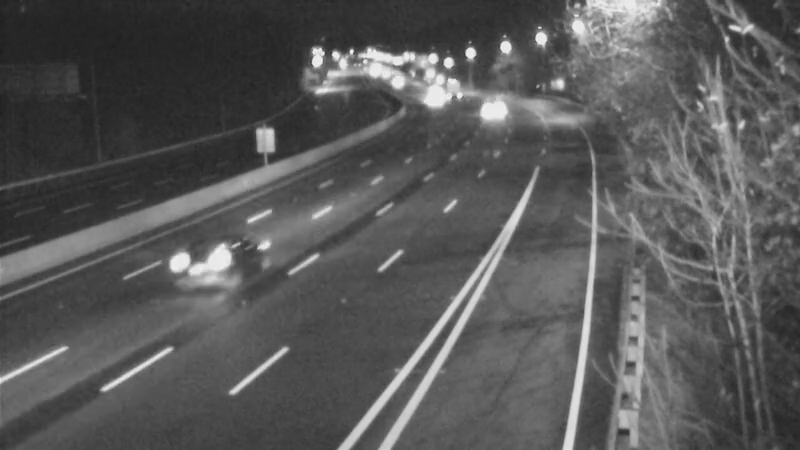vehicle: (161, 224, 241, 304), (369, 57, 419, 107), (428, 63, 478, 113), (406, 78, 456, 128), (468, 86, 518, 136)
